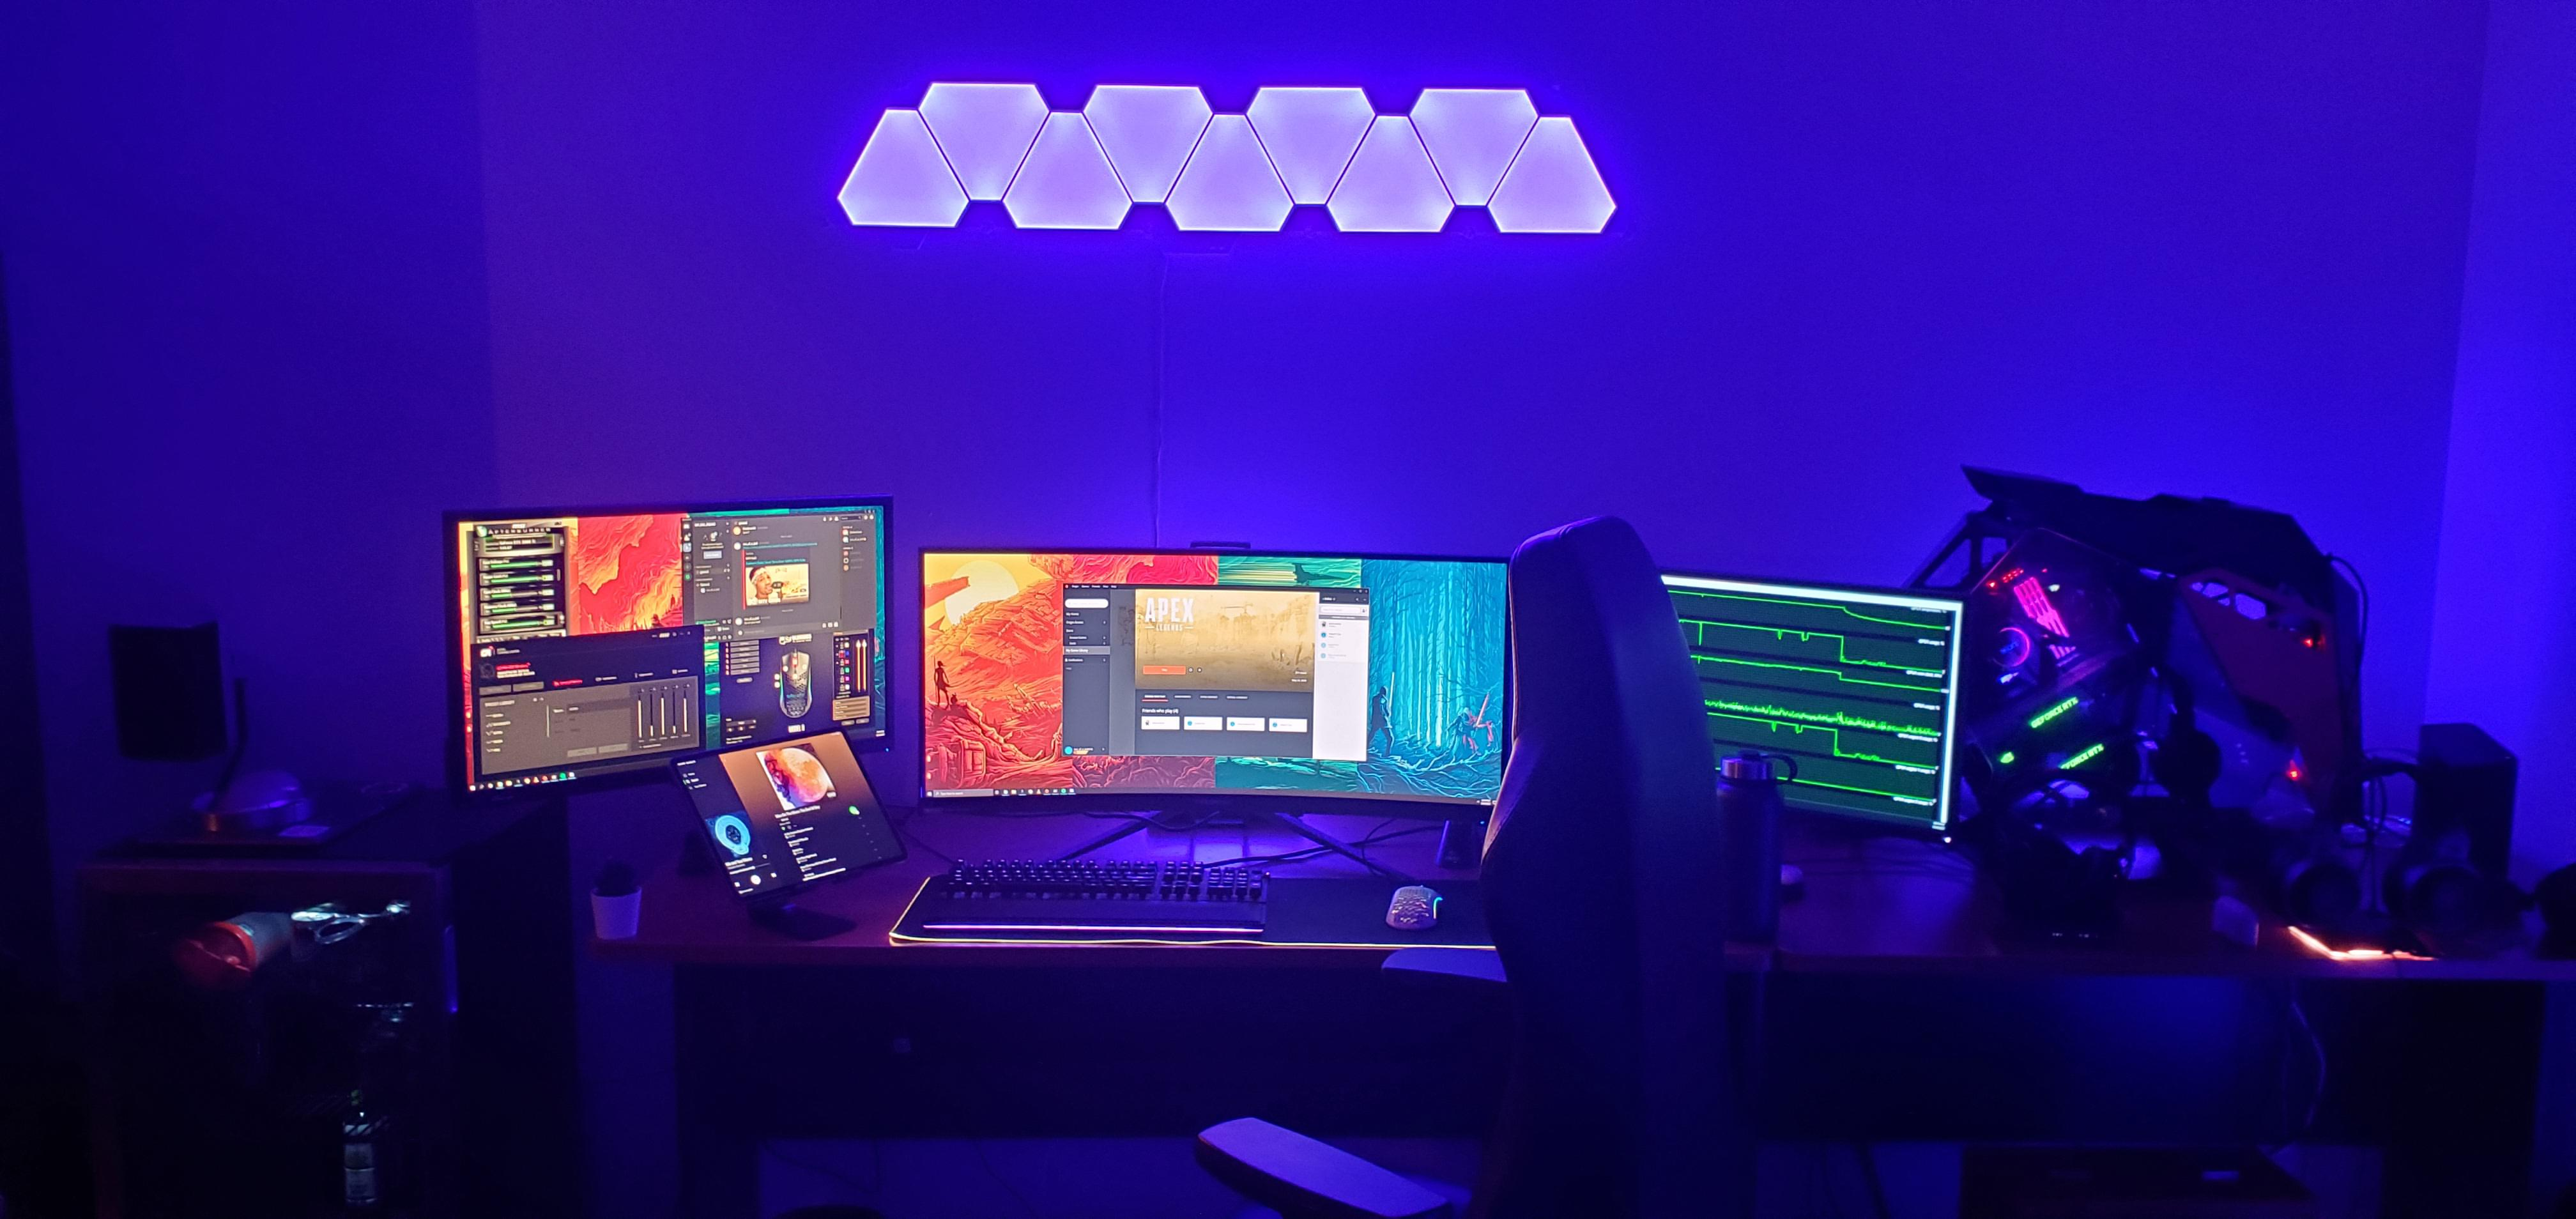Chair (Gaming): (1188, 485, 1782, 1206)
Decoration (Plant): (586, 858, 646, 950)
Desk (Generic): (621, 867, 2553, 1188)
Desktop (Windows): (1917, 468, 2316, 943)
Headphones (with Microphone): (2270, 729, 2492, 941)
Keyboard (Gaming): (908, 856, 1290, 930)
Mini Fridge: (49, 785, 575, 1204)
Monitor (Landscape): (913, 542, 1508, 823), (429, 483, 899, 792), (1525, 555, 1970, 833)
Mouse (Gaming): (1370, 866, 1460, 936)
Mousepad (Gaming): (876, 839, 1541, 959)
Tablet (iPad): (680, 734, 923, 913)
Water Bottle: (1713, 747, 1801, 945)
